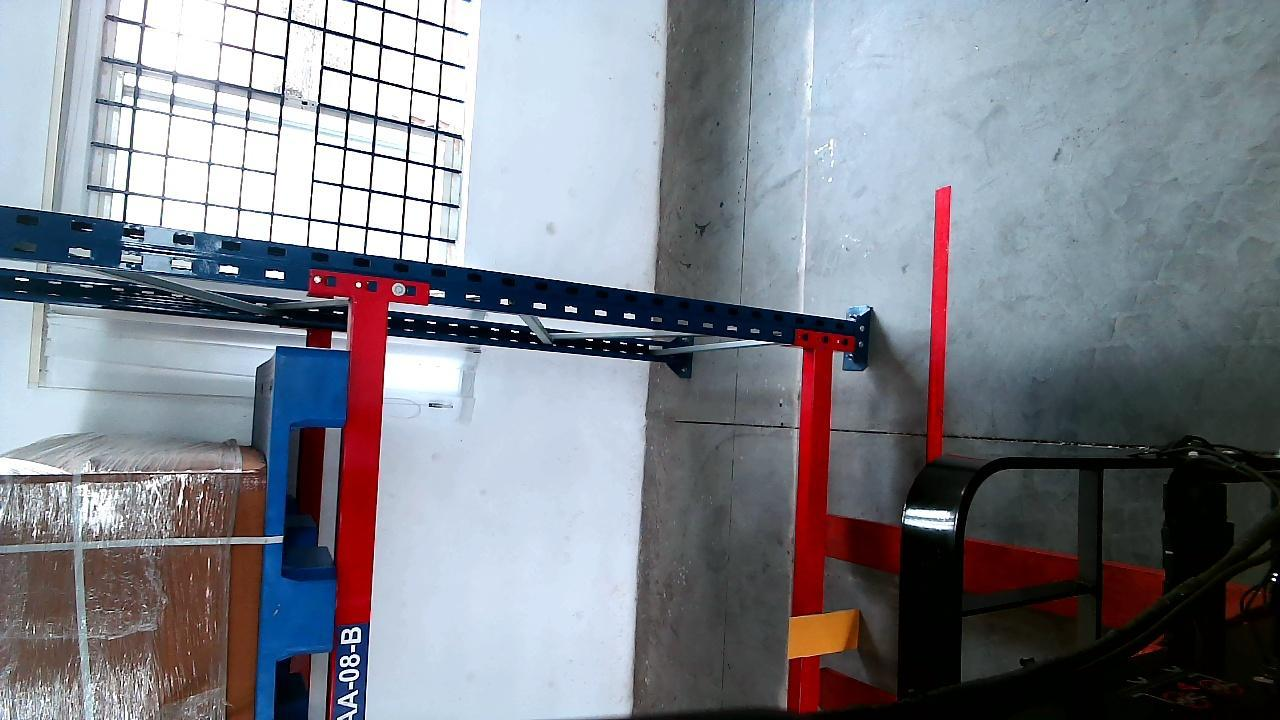red_line: (922, 184, 951, 462)
